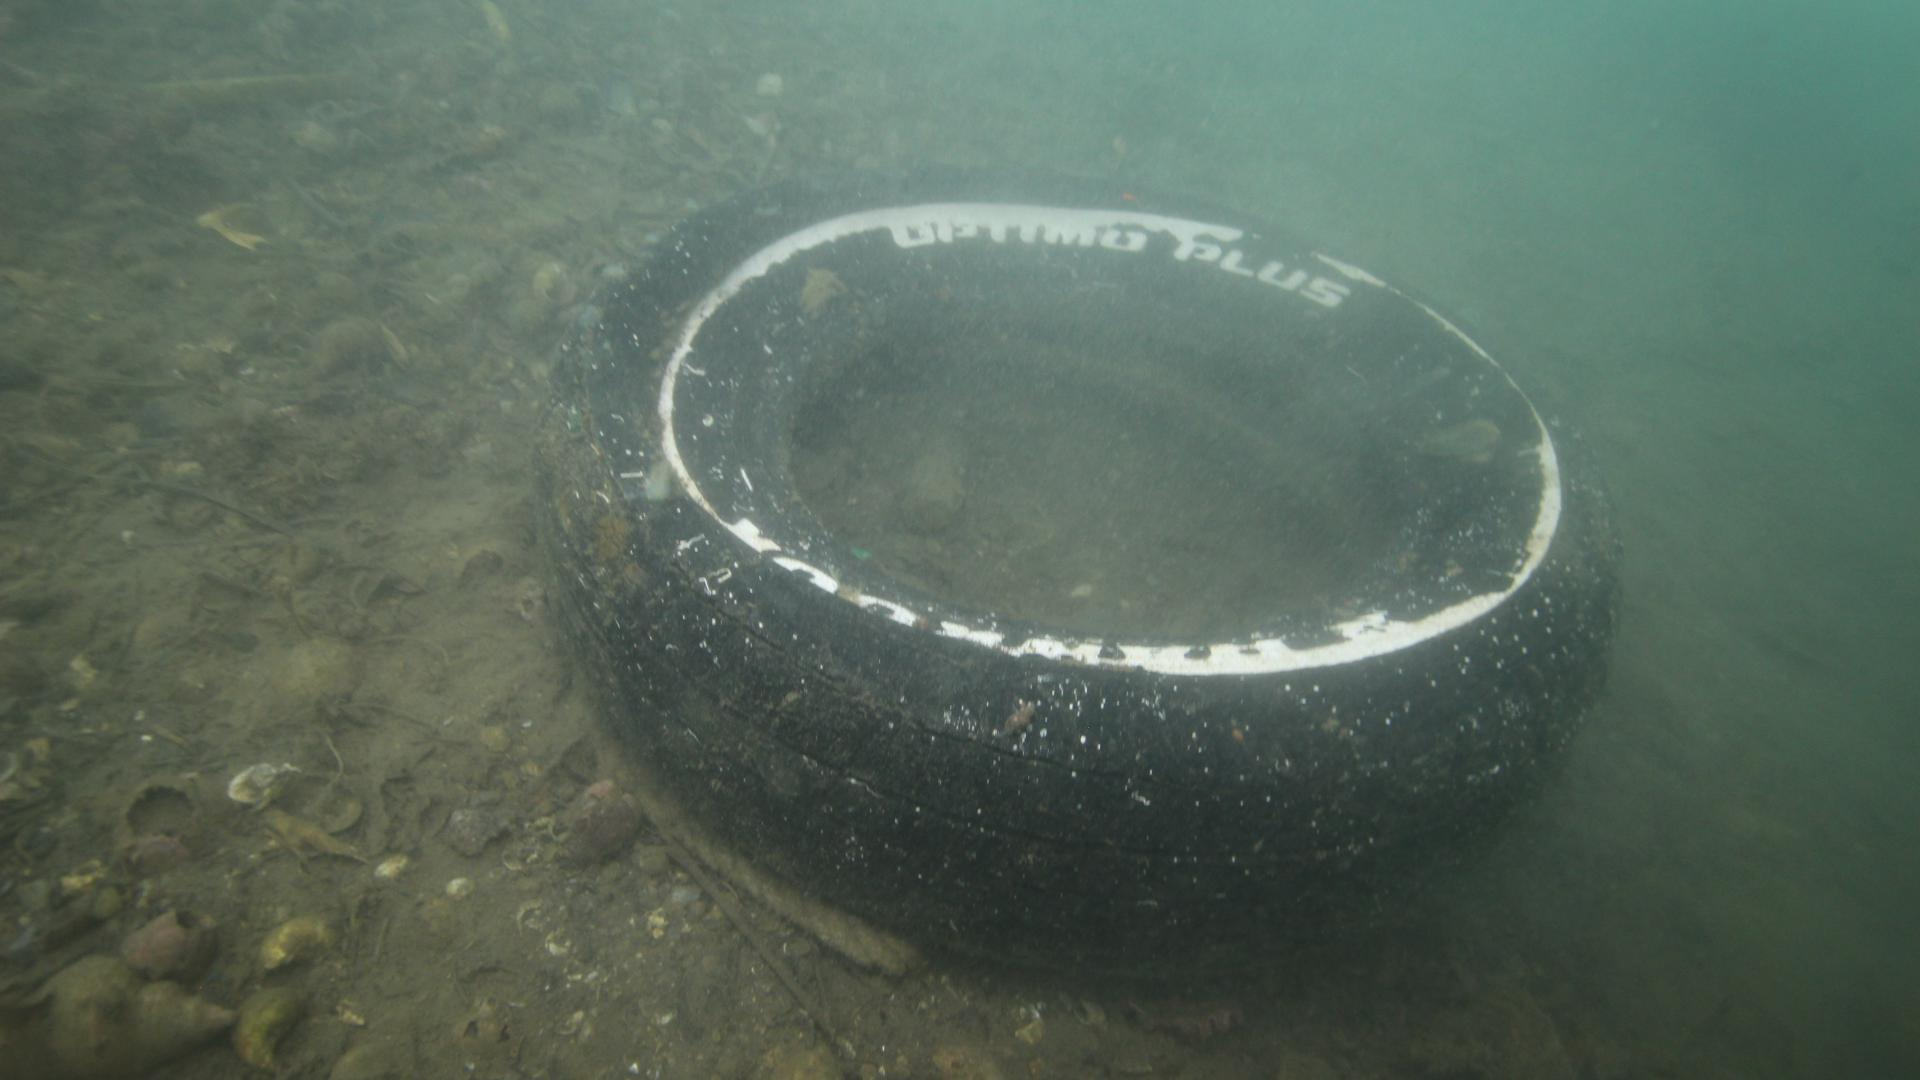tire: (535, 164, 1622, 978)
